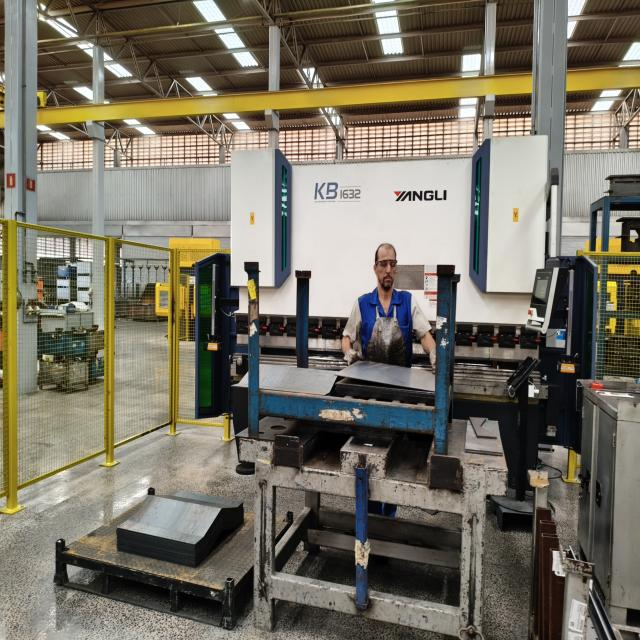oculos-epi: (376, 260, 397, 269)
